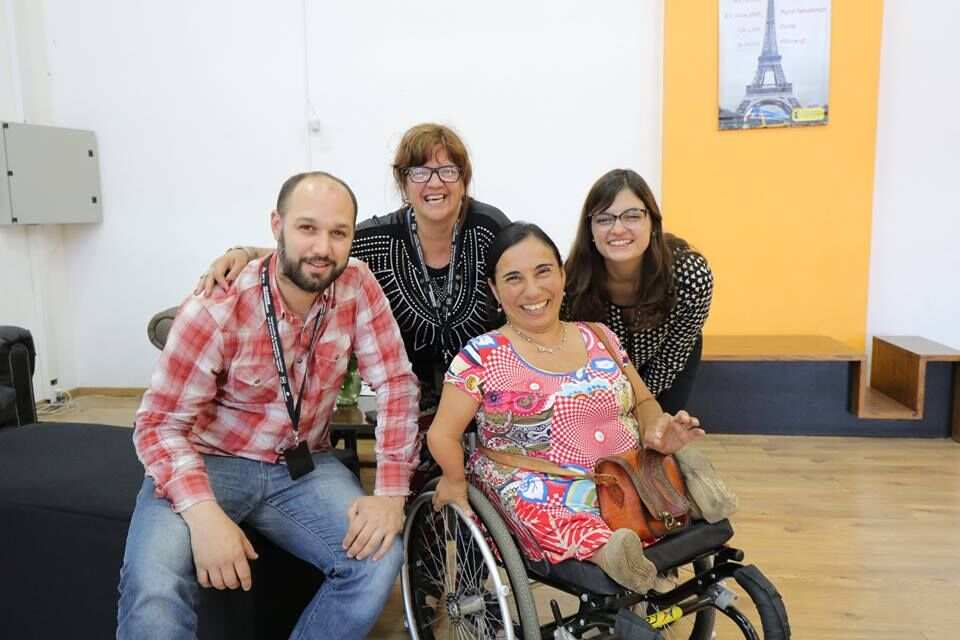person: (446, 239, 667, 474), (188, 166, 393, 418), (329, 119, 541, 330), (552, 165, 712, 387)
